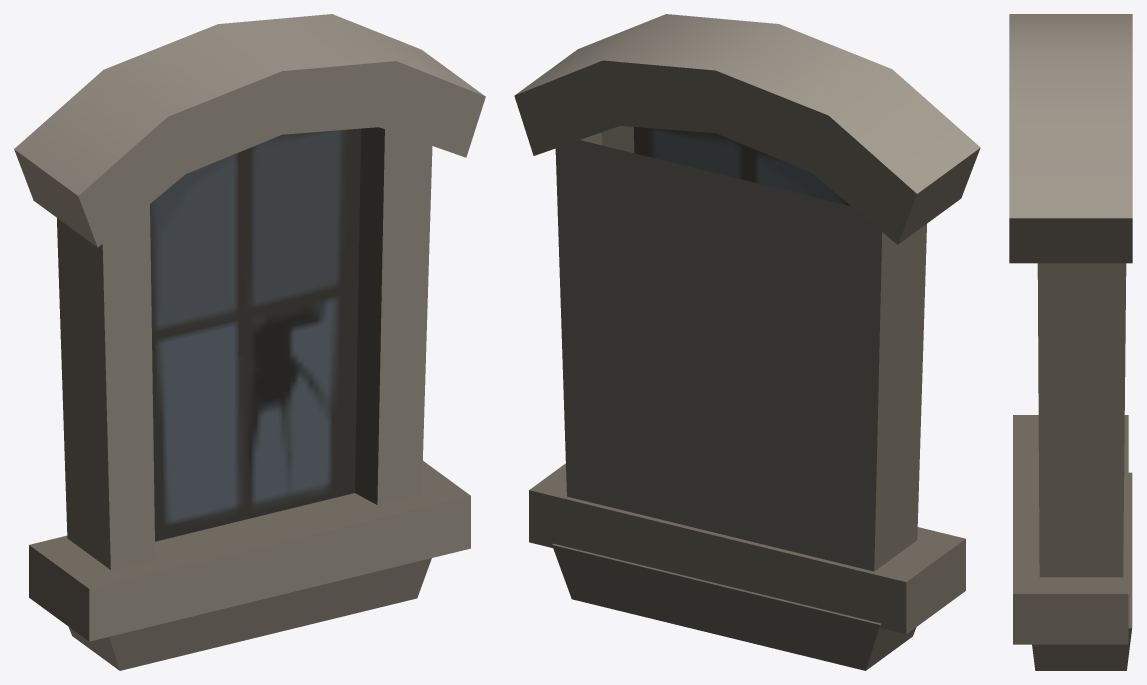
File: Window_A03.fbx
3 renders of one model, left to right at view 1: azimuth 30°, elevation 25°; view 2: azimuth 150°, elevation 25°; view 3: azimuth 270°, elevation 25°, orthographic. The views are drawn at different scales.
Visible parts, largest first — view 1: Window_A03; view 2: Window_A03; view 3: Window_A03.
Part boxes in pixels (<box>): Window_A03: <box>14,14,485,670</box>; Window_A03: <box>514,14,980,670</box>; Window_A03: <box>1009,14,1132,670</box>.
Size of the model in its own units: 165 by 221 by 44.99.
